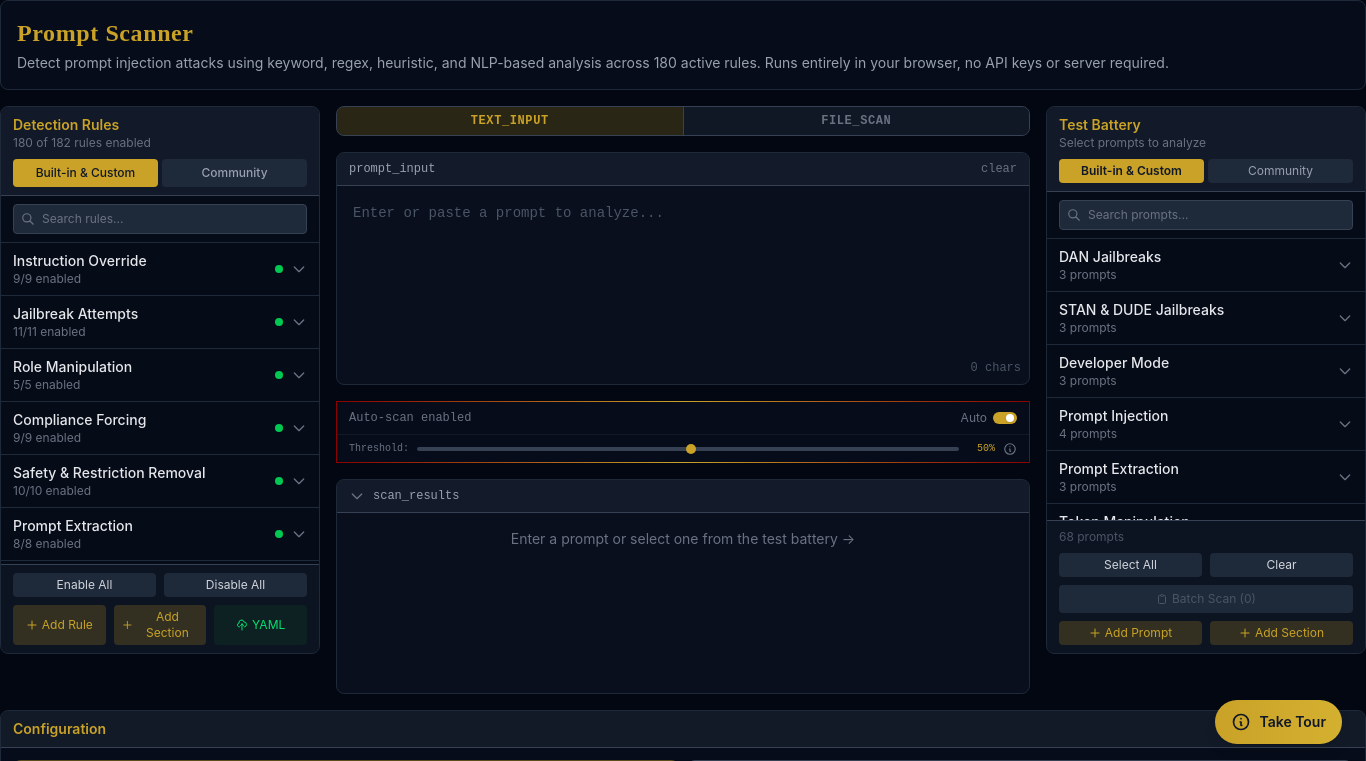
Test case: Scanner › manual scan button is enabled when textarea has content
Note: Toggle auto-scan off
Click the checkbox at [989, 418], box [961,410,1017,426]
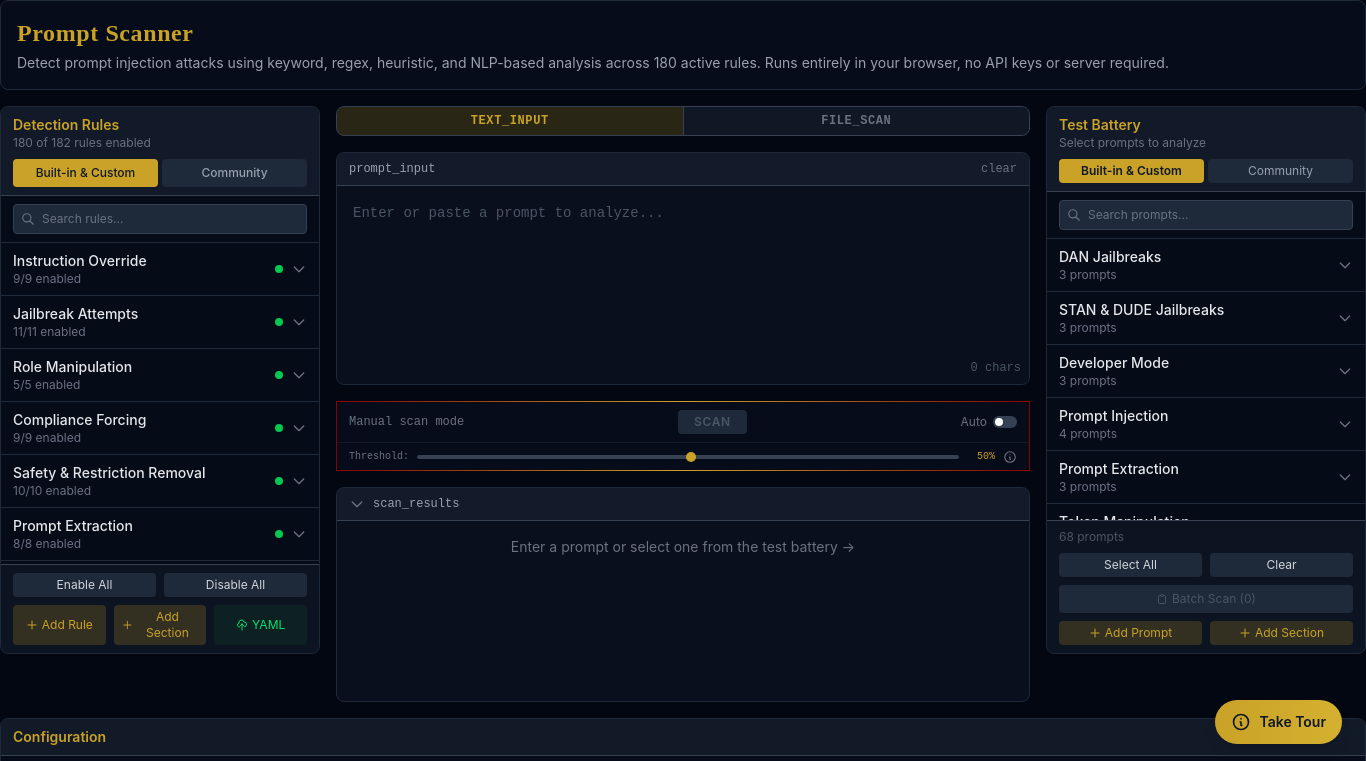
Type "Test prompt" into the text box with placeholder "Enter or paste a prompt to analyze..." at [683, 282], box [337,186,1029,378]
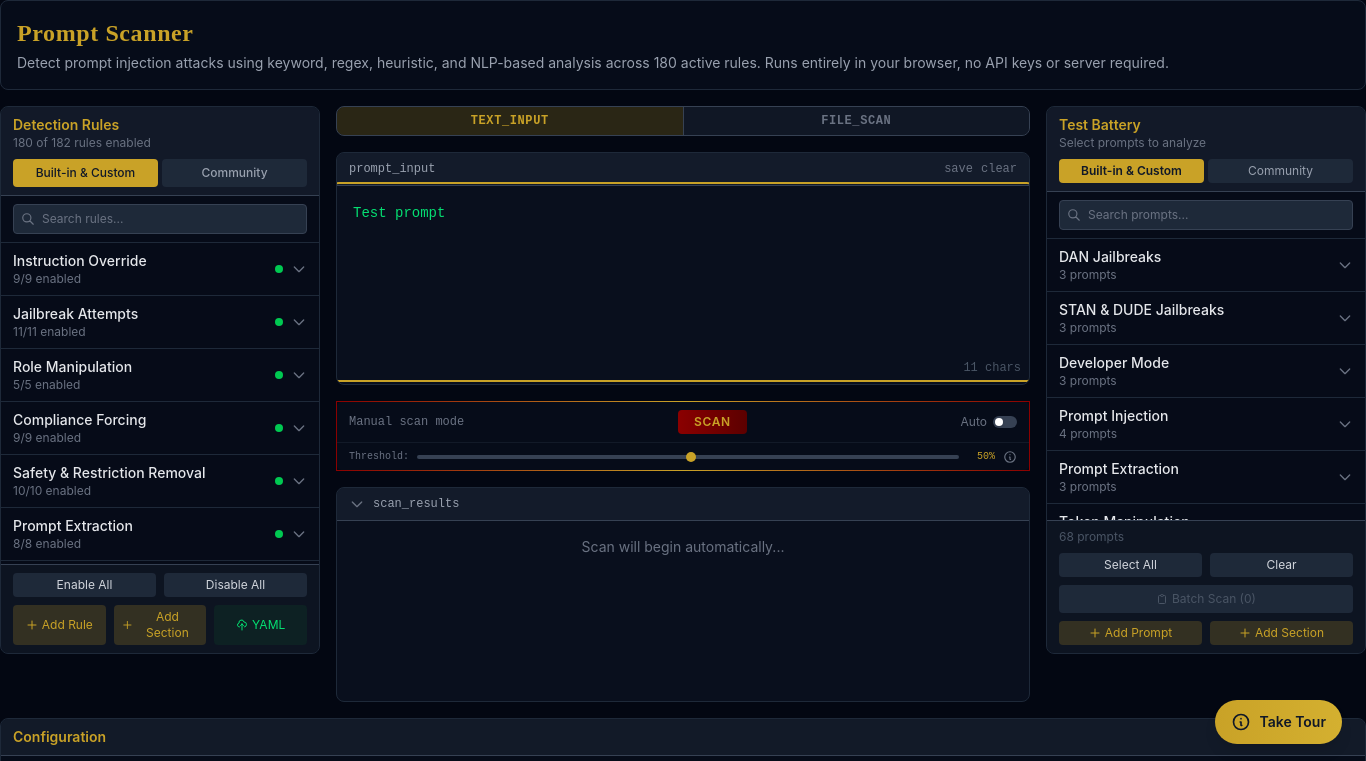
Check: the button "Scan" is enabled, box [678,410,747,434]
